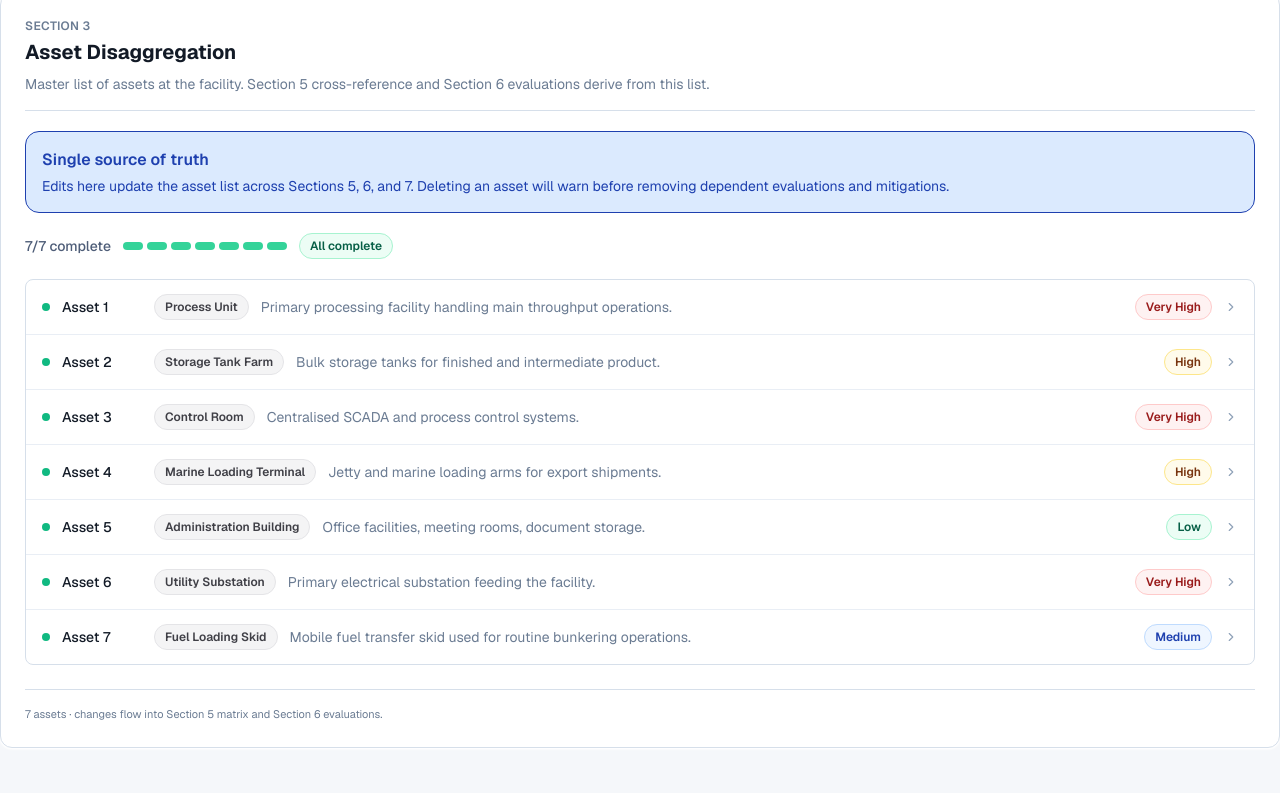
Test: AD-1 anomaly acknowledgement (Section 3) › read-only mode shows the warning but no Acknowledge button
What coordinates should you click on to do the following:
click the button "Asset 7"
I would click on:
 (640, 637)
Its box is [26,610,1254,664].
(page scrolled)
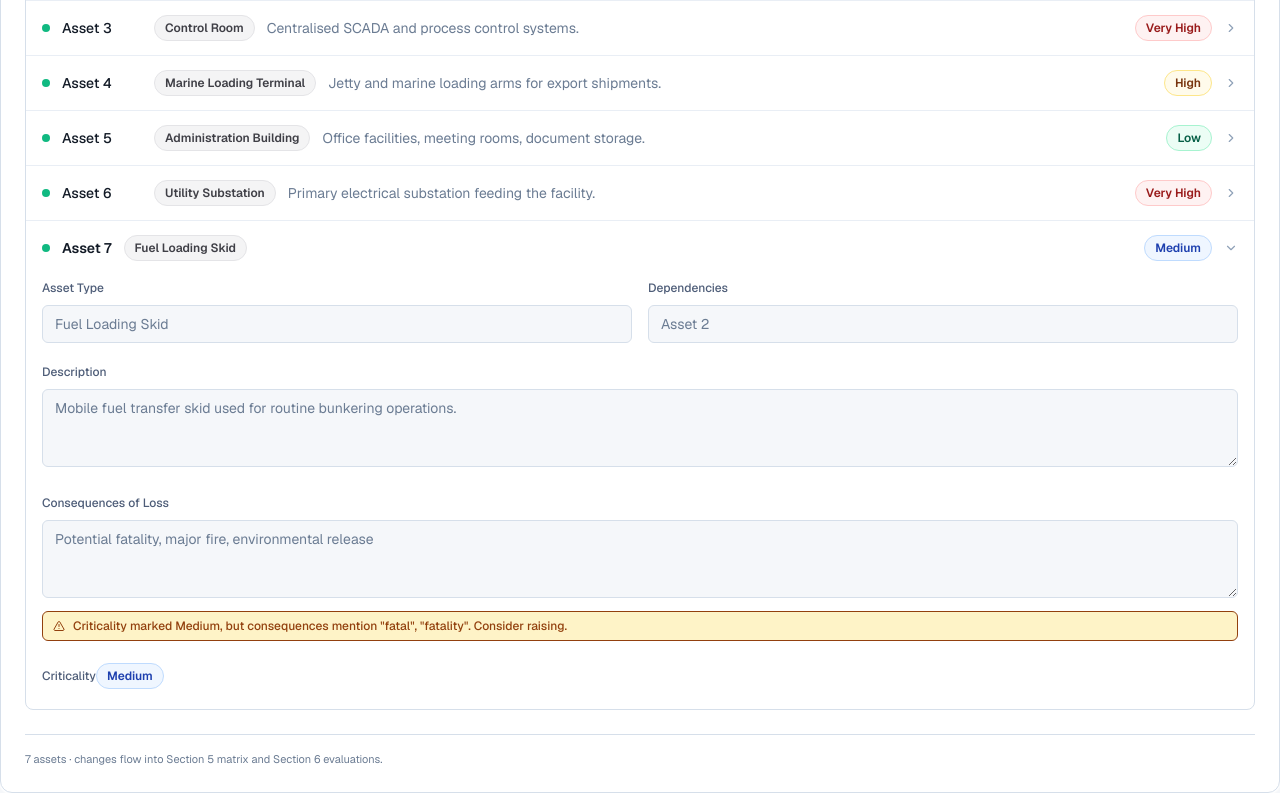
Check: the text "Consider raising" is shown, box [73,618,567,634]
